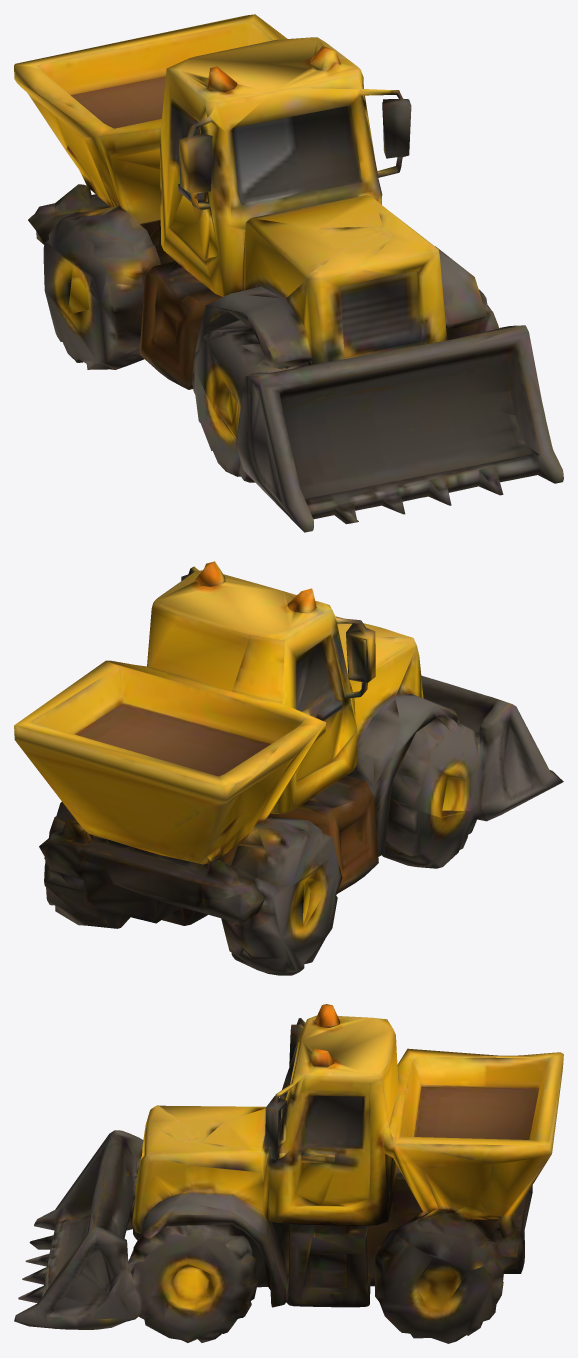
Rendered from wheel_loader_github.glb.
3 views of the same model, one above another, from view 1: azimuth 30°, elevation 25°; view 2: azimuth 150°, elevation 25°; view 3: azimuth 270°, elevation 25° (orthographic). The views are drawn at different scales.
Visible parts, largest first — view 1: wheel_loader_github; view 2: wheel_loader_github; view 3: wheel_loader_github.
Part boxes in pixels (bbox=[...]): wheel_loader_github: bbox=[14, 14, 563, 532]; wheel_loader_github: bbox=[14, 561, 563, 975]; wheel_loader_github: bbox=[14, 1004, 563, 1343].
Size of the model in its own units: 0.1889 by 0.2262 by 0.4119.
1 material, 1 textured.
